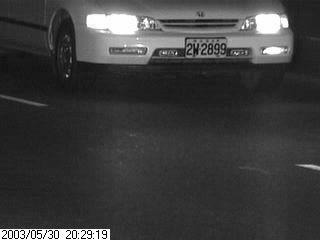plate: (184, 36, 228, 60)
